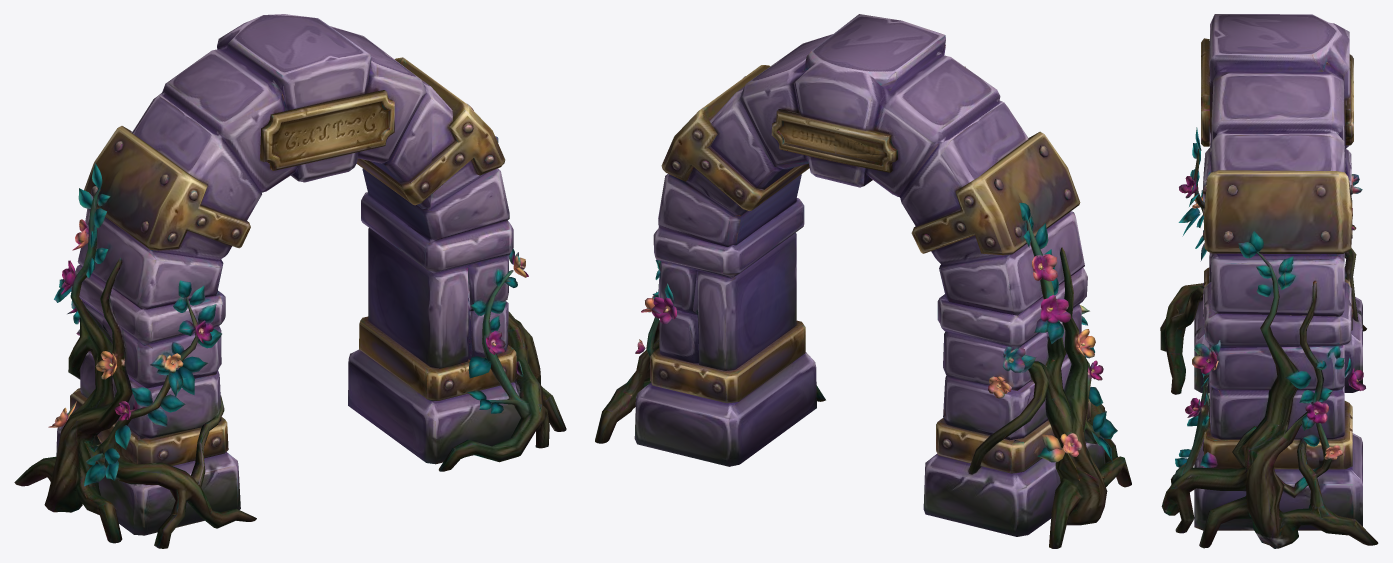
File: p_gate.glb
The picture shows the model from 3 angles, left to right: view 1: azimuth 30°, elevation 25°; view 2: azimuth 150°, elevation 25°; view 3: azimuth 270°, elevation 25°; orthographic projection. The views are drawn at different scales.
Visible parts, largest first — view 1: Mesh_0; view 2: Mesh_0; view 3: Mesh_0.
Part boxes in pixels (bbox=[...]): Mesh_0: bbox=[14, 14, 566, 548]; Mesh_0: bbox=[595, 14, 1131, 548]; Mesh_0: bbox=[1160, 14, 1378, 548].
Bounding box in the file's own units: 1 × 0.8343 × 0.4049.
1 material, 1 textured.
